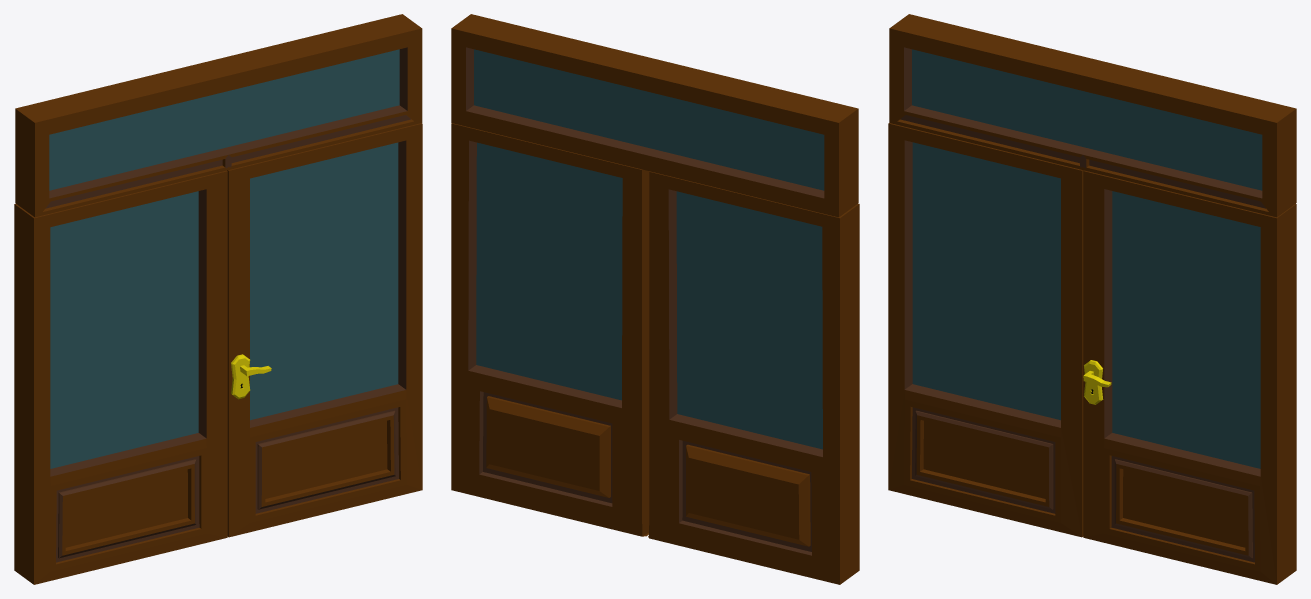
Rendered from giga tür.fbx.
The picture shows the model from 3 angles, left to right: view 1: azimuth 30°, elevation 25°; view 2: azimuth 150°, elevation 25°; view 3: azimuth 330°, elevation 25°; orthographic projection.
Parts seen in each view (by area): view 1: Cube.003, türklinke; view 2: Cube.003; view 3: Cube.003, türklinke.
Part boxes in pixels (<box>): Cube.003: <box>14,14,422,584</box>; türklinke: <box>231,354,271,399</box>; Cube.003: <box>451,14,859,584</box>; Cube.003: <box>888,14,1296,584</box>; türklinke: <box>1083,360,1111,404</box>.
Bounding box in the file's own units: 388 × 441 × 51.77.
